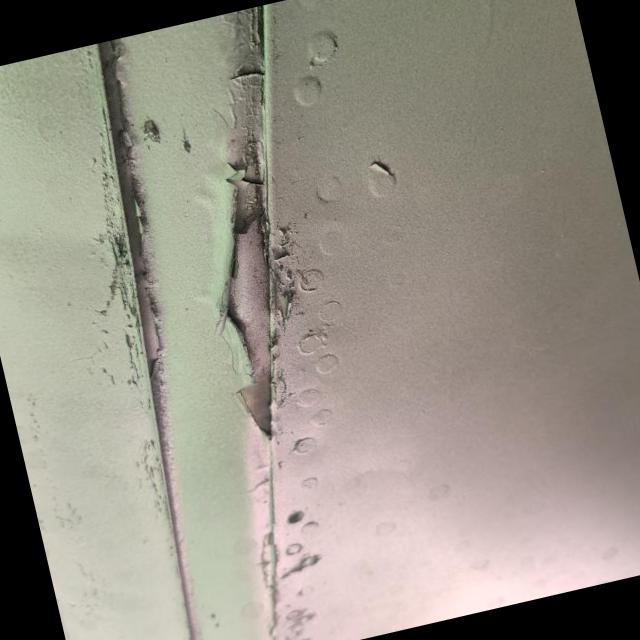Paint-off: (226, 180, 271, 434)
